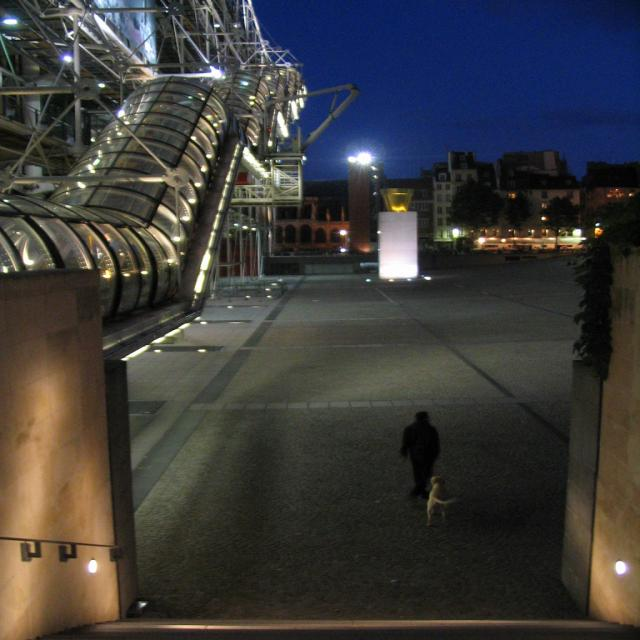Dog: (417, 485, 488, 537)
